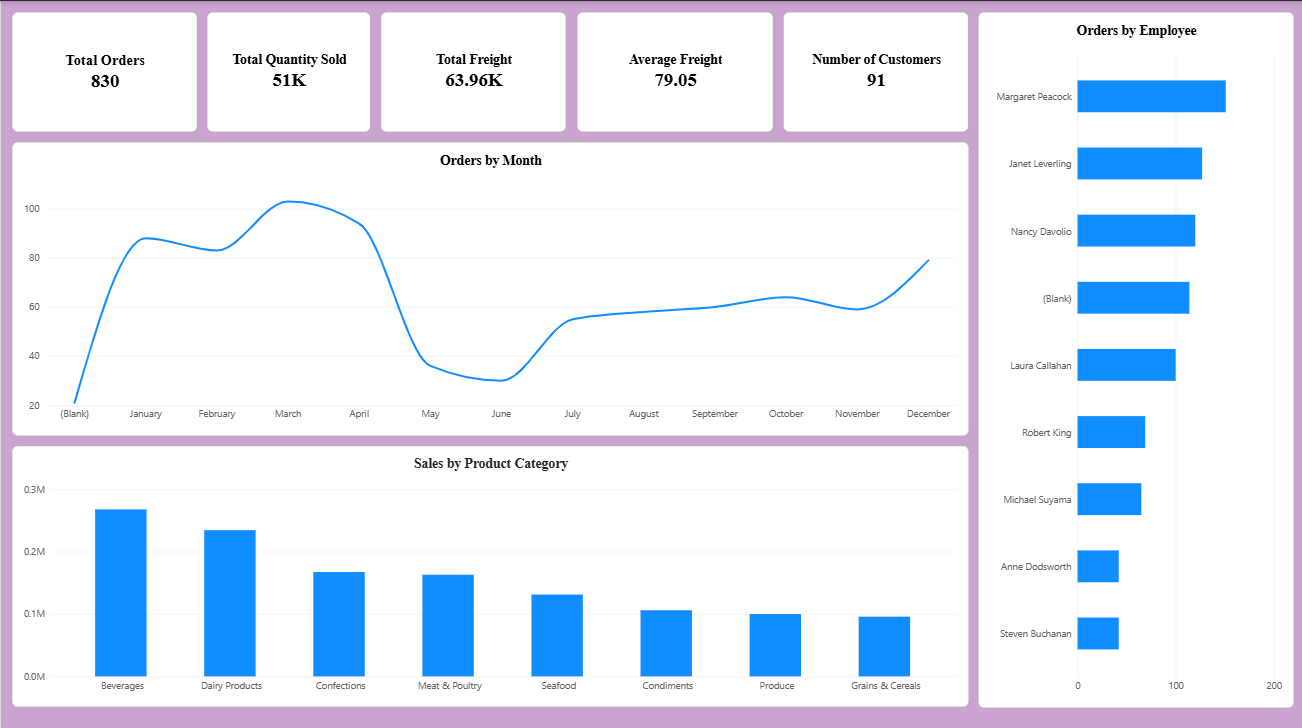

This screenshot's page, from the dashboard's own definition file:
{"tool":"powerbi","page":{"name":"Sales Overview","canvas":[1920,1080],"ordinal":0},"visuals":[{"type":"cardVisual","fields":{"Data":["Orders.Total Orders"]},"box":[16,16,272,176],"z":0},{"type":"cardVisual","fields":{"Data":["Customers.Number of Customers"]},"box":[1152,16,272,176],"z":1000},{"type":"cardVisual","fields":{"Data":["Orders.Total Freight"]},"box":[560,16,272,176],"z":2000},{"type":"cardVisual","fields":{"Data":["Orders.Average Freight"]},"box":[848,16,288,176],"z":3000},{"type":"cardVisual","fields":{"Data":["Order Details.Total Quantity Sold"]},"box":[304,16,240,176],"z":4000},{"type":"lineChart","title":"Orders by Month","fields":{"Category":["Orders.Order Date.Variation.Date Hierarchy.Month"],"Y":["Orders.Total Orders"]},"box":[16,208,1408,432],"z":5000},{"type":"clusteredColumnChart","title":"Sales by Product Category","fields":{"Category":["Categories.Category Name"],"Y":["Order Details.Total Sales"]},"box":[16,656,1408,384],"z":6000},{"type":"clusteredBarChart","title":"Orders by Employee","fields":{"Category":["Employees.Employee Name"],"Y":["Orders.Total Orders"]},"box":[1440,16,464,1024],"z":7000}]}

Visuals, with their boxes in screenshot pixels (x1, y1, x2, y2), scaled from the page's 1920x1080 canvas onto the 1302x728 screenshot:
cardVisual - Orders.Total Orders: [11, 11, 195, 129]
cardVisual - Customers.Number of Customers: [781, 11, 966, 129]
cardVisual - Orders.Total Freight: [380, 11, 564, 129]
cardVisual - Orders.Average Freight: [575, 11, 770, 129]
cardVisual - Order Details.Total Quantity Sold: [206, 11, 369, 129]
"Orders by Month" lineChart: [11, 140, 966, 431]
"Sales by Product Category" clusteredColumnChart: [11, 442, 966, 701]
"Orders by Employee" clusteredBarChart: [976, 11, 1291, 701]
